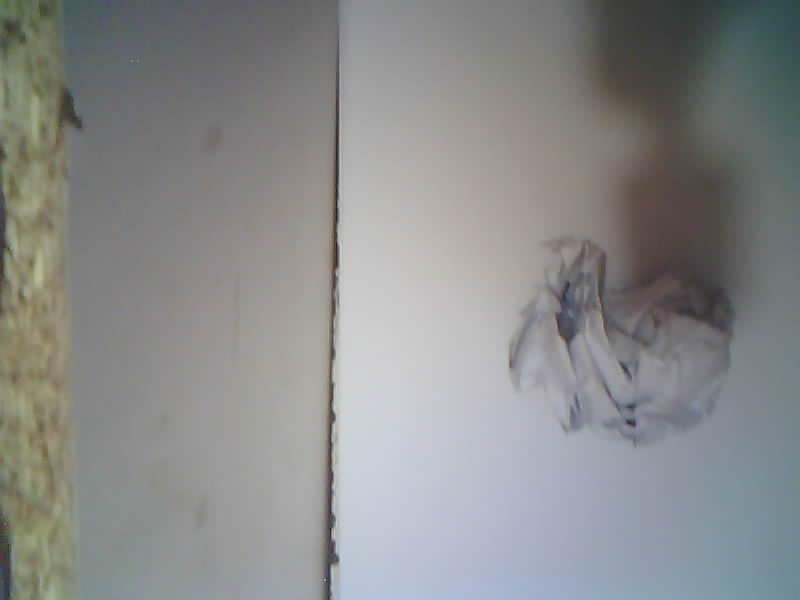biodegradable: (510, 239, 732, 445)
